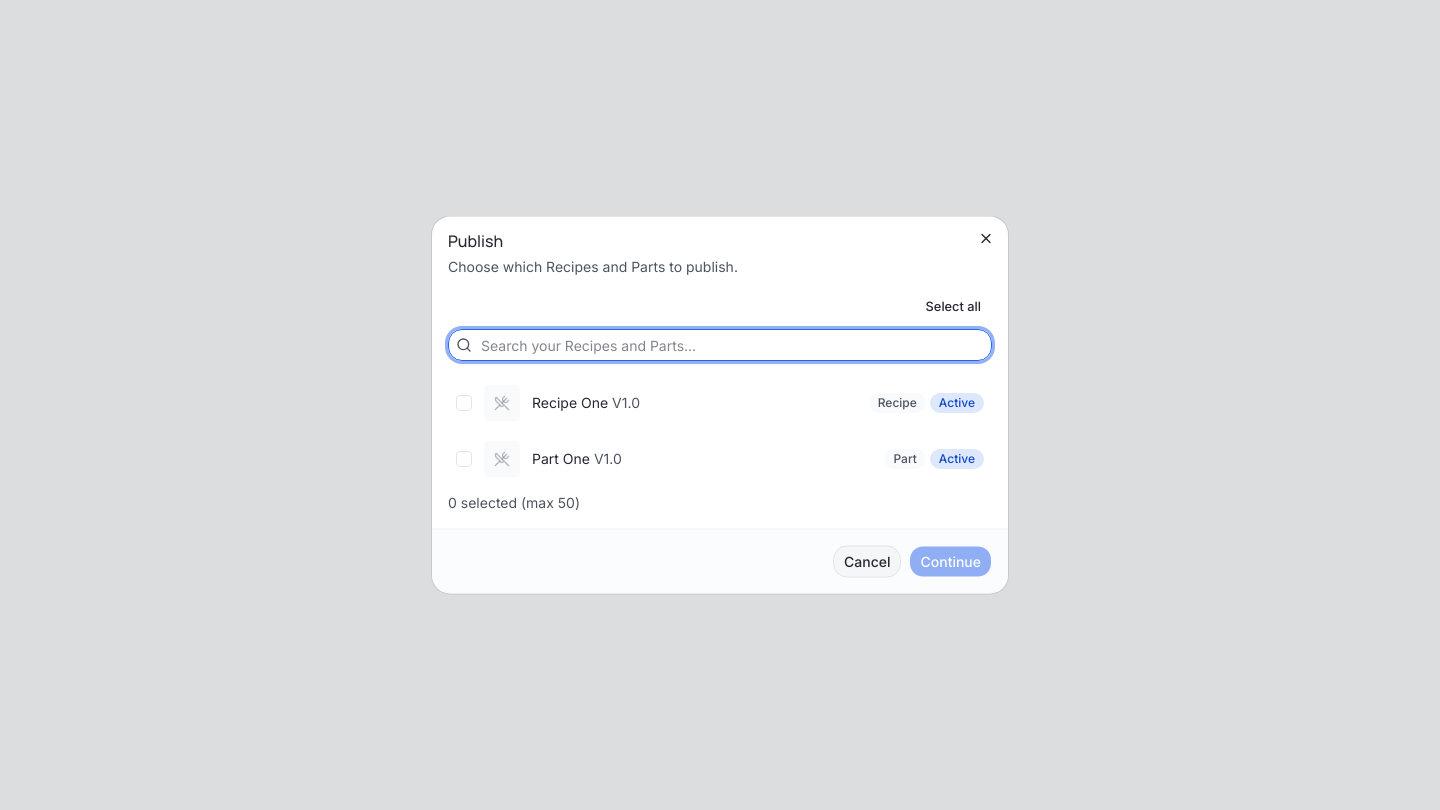
BulkPublishDialog › Continue stays disabled until at least one item is selected
Expected: the text "Recipe One" is shown, [532,394,608,410]
Expected: the button "Continue" is disabled, [910,546,992,578]
Click the checkbox named "Select Recipe One".
click(464, 402)  # box [456,394,472,410]
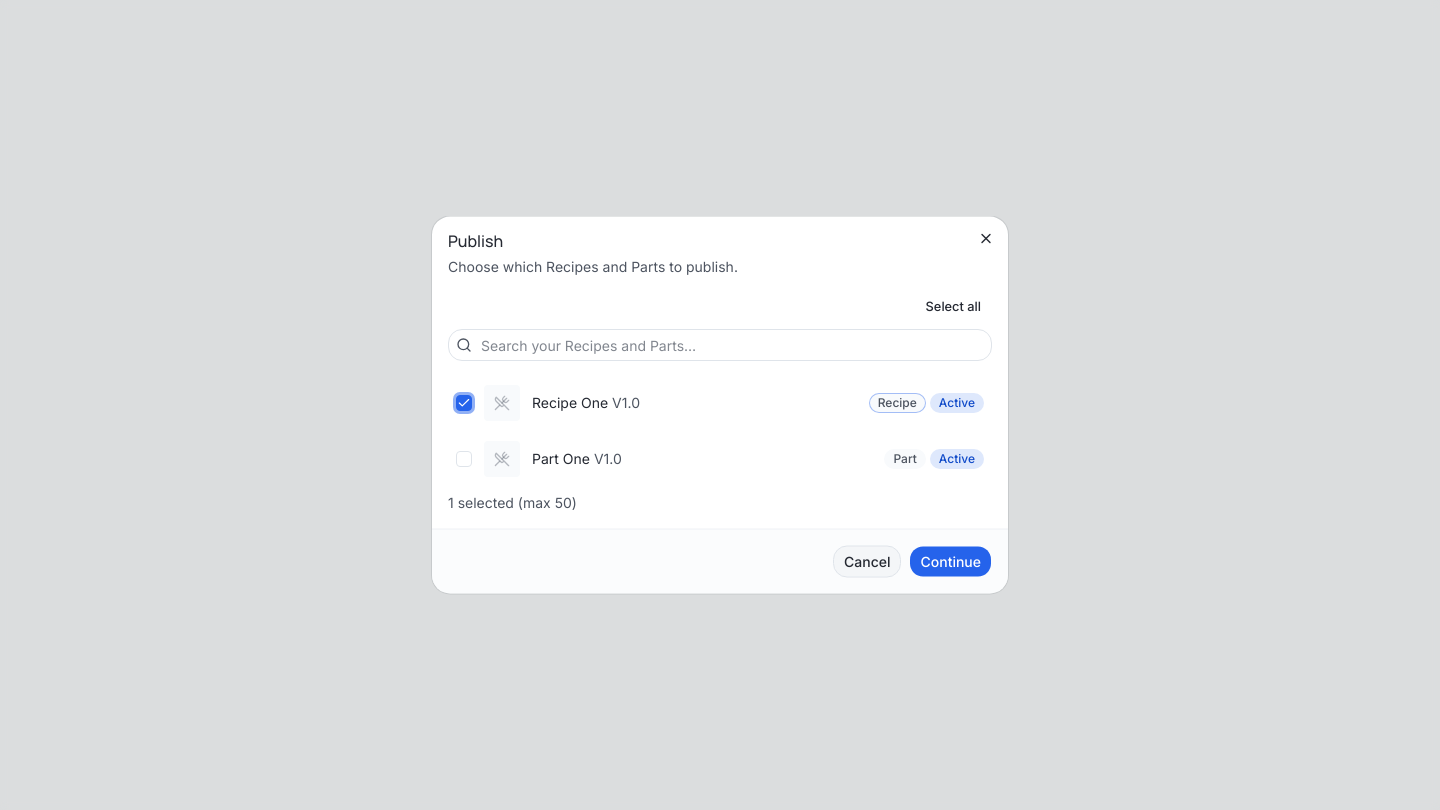
Now the button "Continue" is enabled, box [910,546,992,578]
